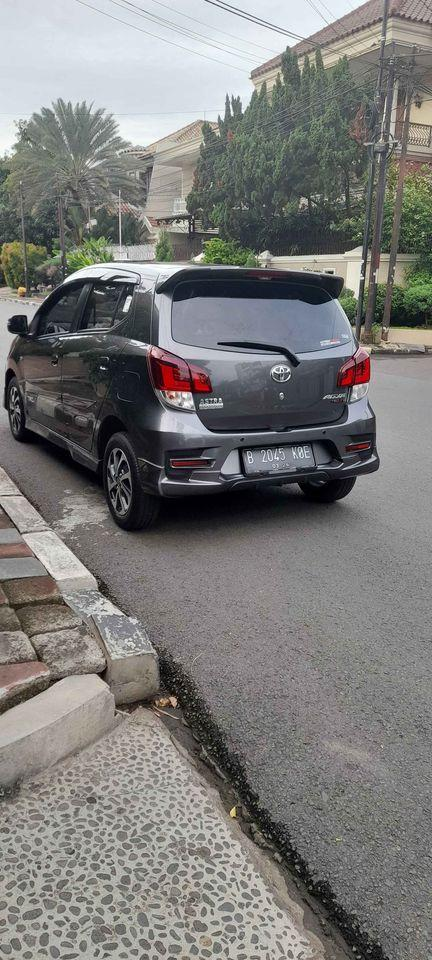plat nomor: (233, 442, 328, 487)
